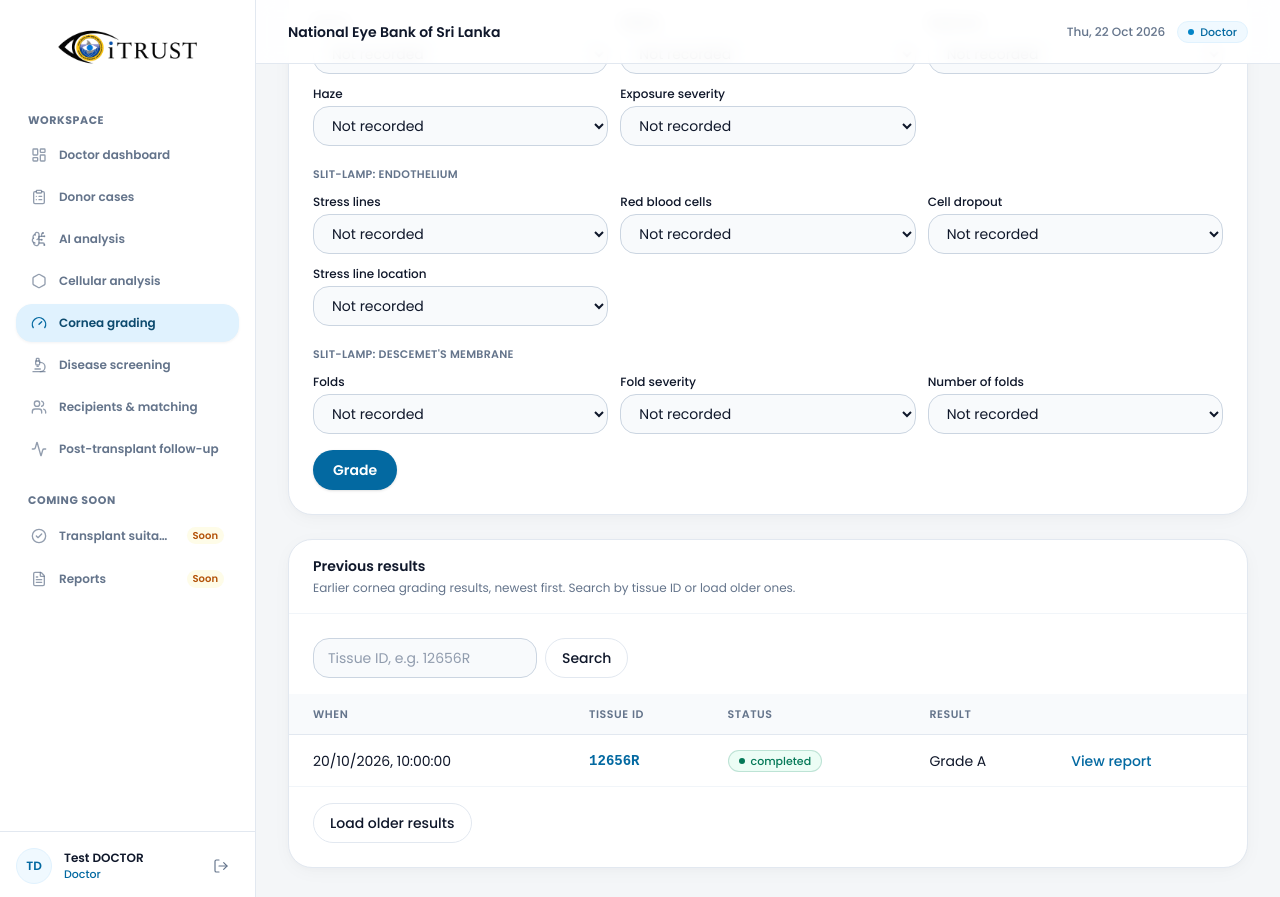
Test: Previous results on a module page › opens an earlier result as its report
The width and height of the screenshot is (1280, 897).
(page scrolled)
Step 1. Click the button "View report" → (1111, 761), box [1071,751,1152,771]
(page scrolled)
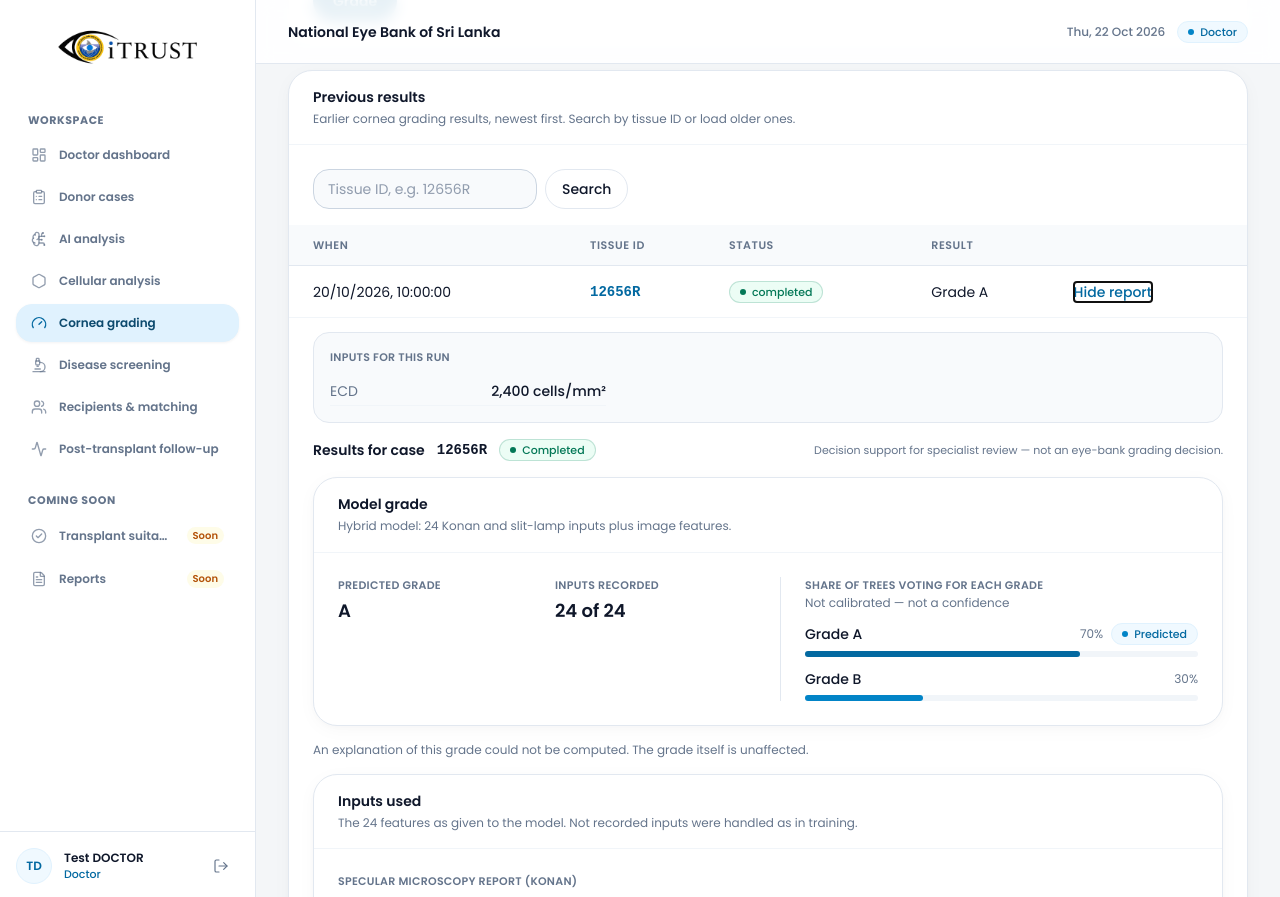
Expected: the element "Inputs for this run" is shown, [313,332,1223,423]
Expected: the heading "Results for case 12656R Completed" is shown, [313,439,596,461]
